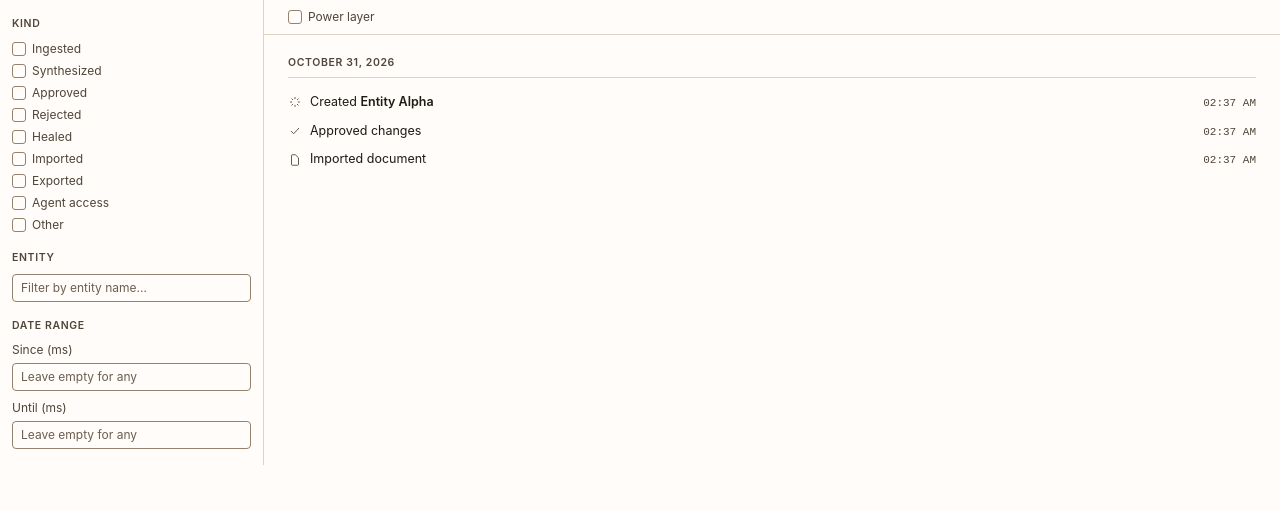
Test: TimelineMode › clear_filters_button_resets_all_filters
Expected: the text "Created" is shown, [310,94,360,109]
Click the checkbox labelled "Synthesized" at (19, 71), box [12,64,26,78]
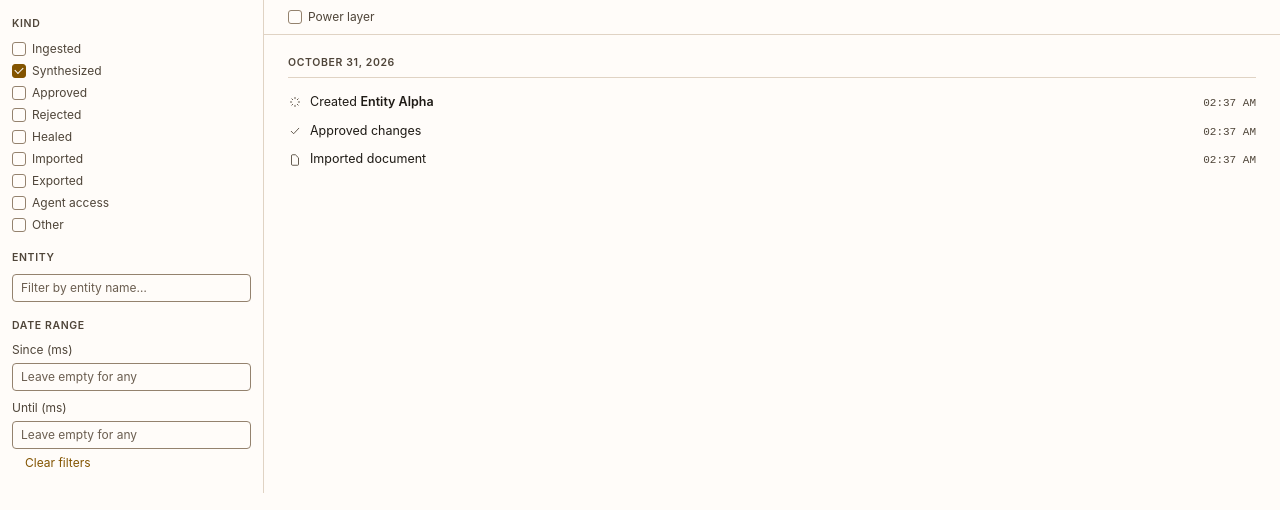
Type "Alpha" into the field with placeholder "Filter by entity name…" at (132, 288), box [12,274,251,302]
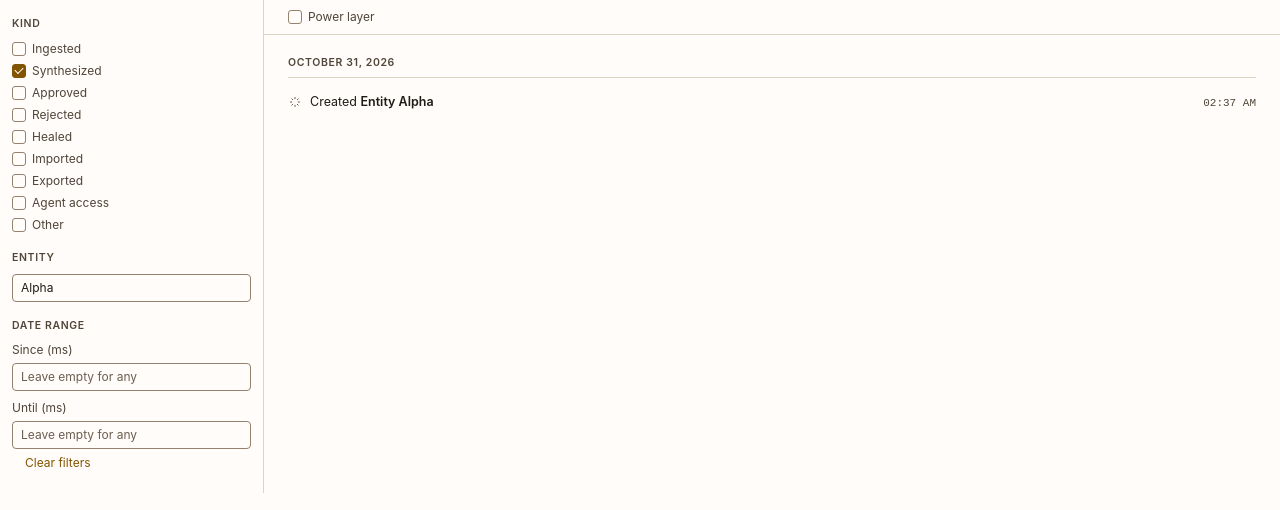
Now the button "Clear filters" is shown
Click the button "Clear filters" at (58, 463), box [12,449,104,477]
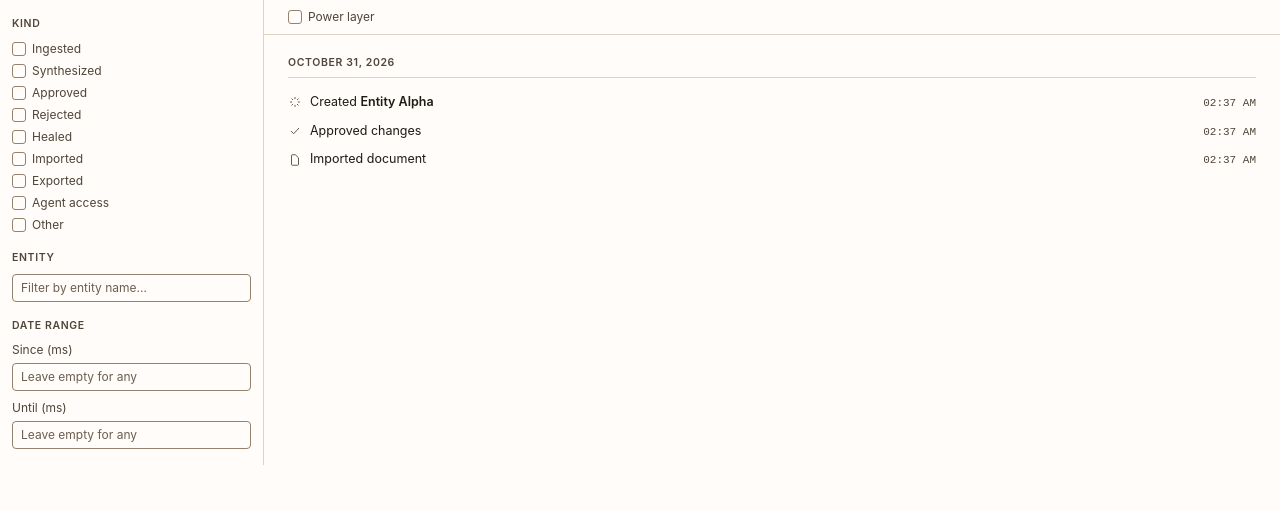
Now the checkbox labelled "Synthesized" is not checked, box [12,64,26,78]
Now the field with placeholder "Filter by entity name…" is empty, box [12,274,251,302]
